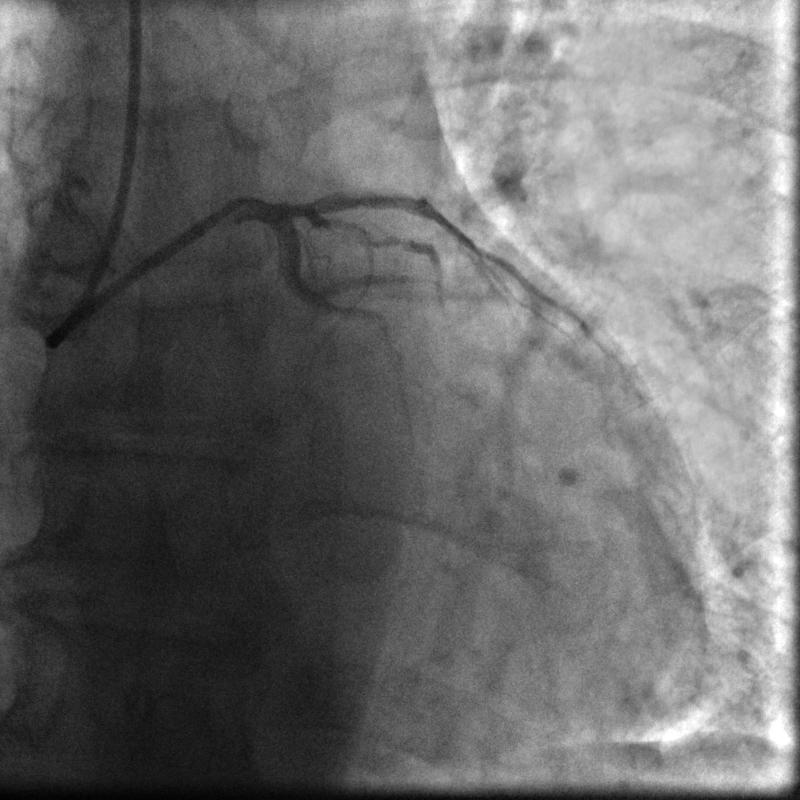Stenosis: (320, 208, 408, 258)
